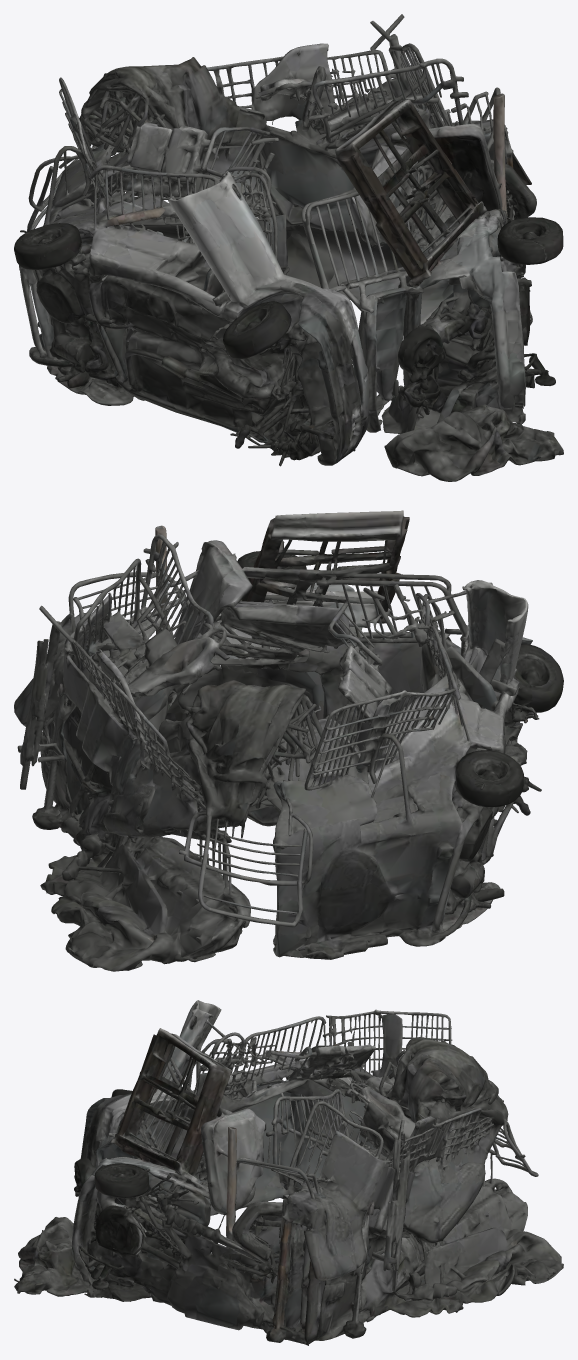
The model's file is cars.glb.
3 renders of one model, top to bottom at view 1: azimuth 30°, elevation 25°; view 2: azimuth 150°, elevation 25°; view 3: azimuth 270°, elevation 25°, orthographic. The views are drawn at different scales.
Parts seen in each view (by area): view 1: mesh_node; view 2: mesh_node; view 3: mesh_node.
Boxes of the visible parts, box(x1,y1,x2,y2) form: mesh_node: box(14, 14, 563, 481); mesh_node: box(14, 510, 563, 971); mesh_node: box(14, 1000, 563, 1345).
Bounding box in the file's own units: 1.6 × 0.845 × 1.9.
Materials: 1 (1 with a texture image).
